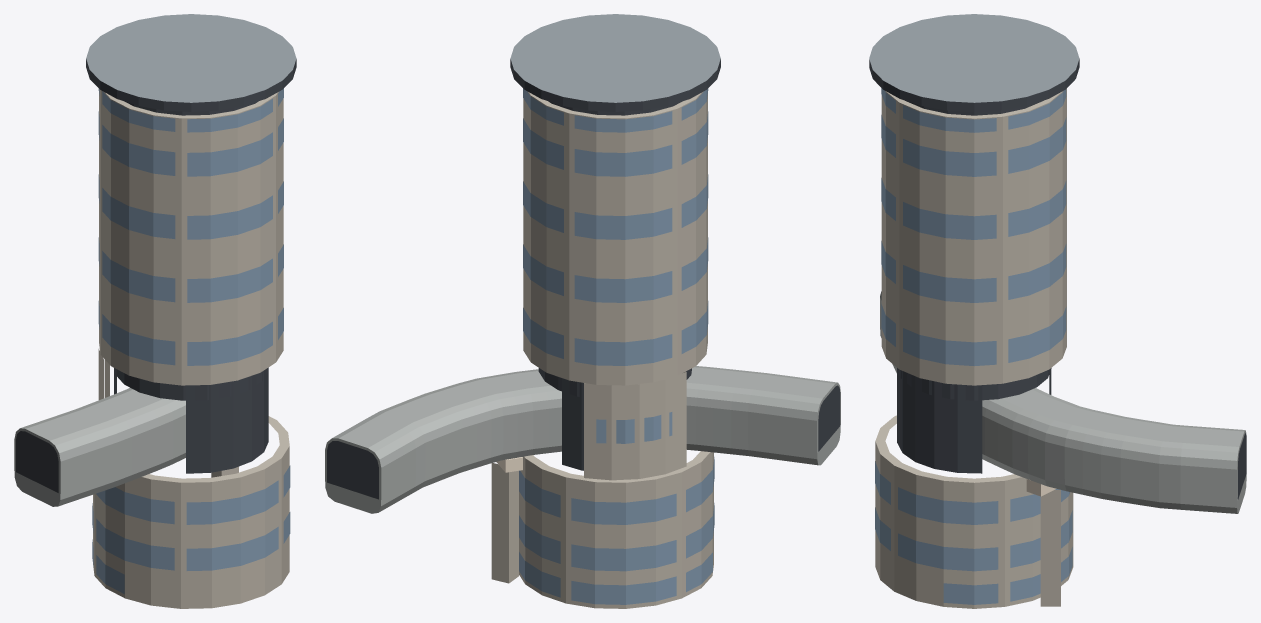
File: osaka-gate-tower-building.glb
The picture shows the model from 3 angles, left to right: view 1: azimuth 30°, elevation 25°; view 2: azimuth 150°, elevation 25°; view 3: azimuth 270°, elevation 25°; orthographic projection.
Parts seen in each view (by area): view 1: Gate Tower Building; view 2: Gate Tower Building; view 3: Gate Tower Building.
Part boxes in pixels (<box>): Gate Tower Building: <box>14,14,296,608</box>; Gate Tower Building: <box>325,14,840,608</box>; Gate Tower Building: <box>869,14,1246,608</box>.
Bounding box in the file's own units: 51.99 × 72.6 × 48.84.
